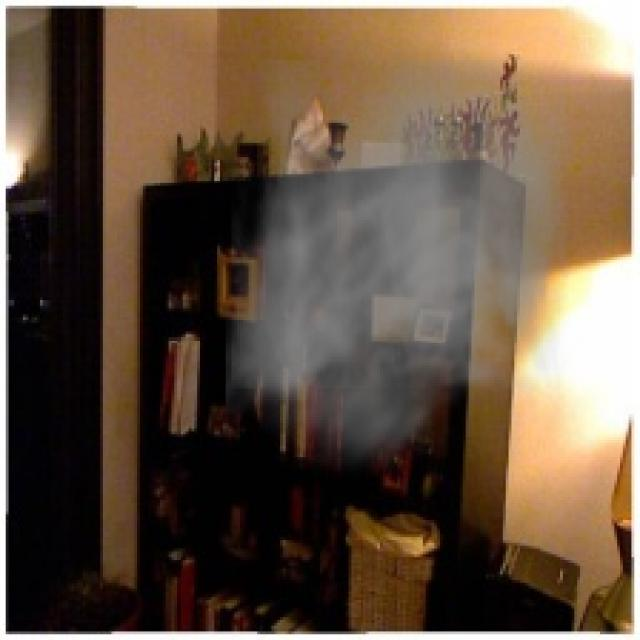smoke: (226, 60, 571, 483)
